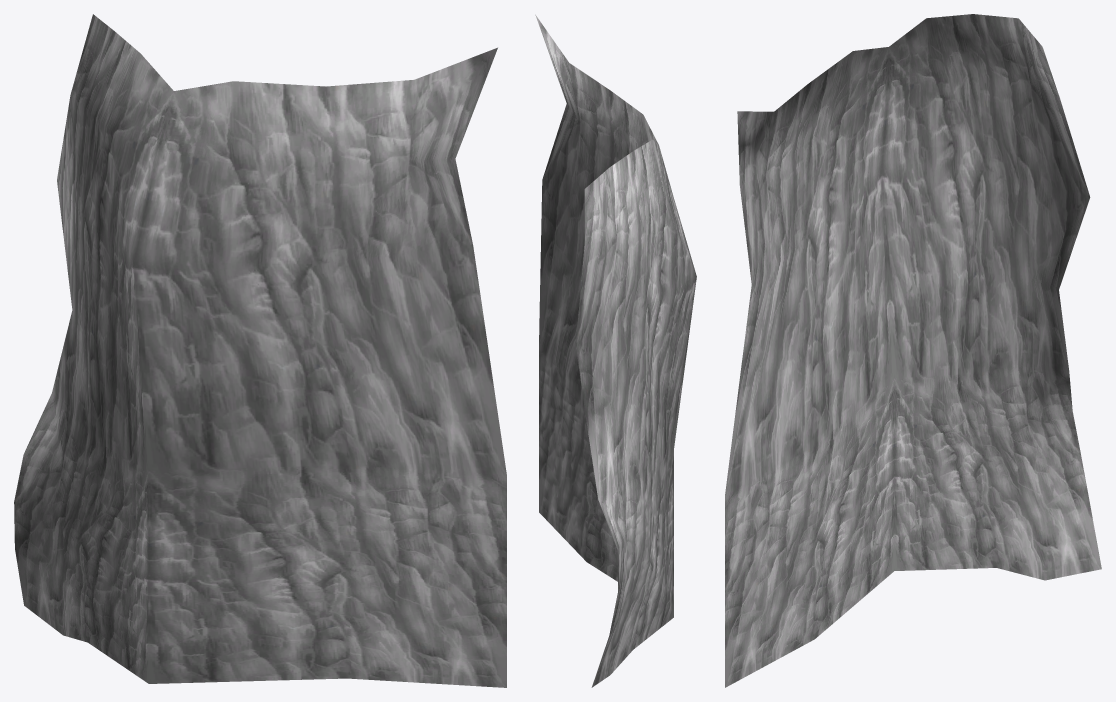
The model's file is SWORDLIGHT20_PS-AREA03_199.fbx.
The picture shows the model from 3 angles, left to right: view 1: azimuth 30°, elevation 25°; view 2: azimuth 150°, elevation 25°; view 3: azimuth 270°, elevation 25°; orthographic projection. The views are drawn at different scales.
Visible parts, largest first — view 1: SWORDLIGHT20_PS-AREA03_199; view 2: SWORDLIGHT20_PS-AREA03_199; view 3: SWORDLIGHT20_PS-AREA03_199.
Part boxes in pixels (<box>): SWORDLIGHT20_PS-AREA03_199: <box>14,14,506,687</box>; SWORDLIGHT20_PS-AREA03_199: <box>535,14,696,687</box>; SWORDLIGHT20_PS-AREA03_199: <box>725,14,1101,687</box>.
Bounding box in the file's own units: 73182 × 152825 × 89008.
1 material, 1 textured.
